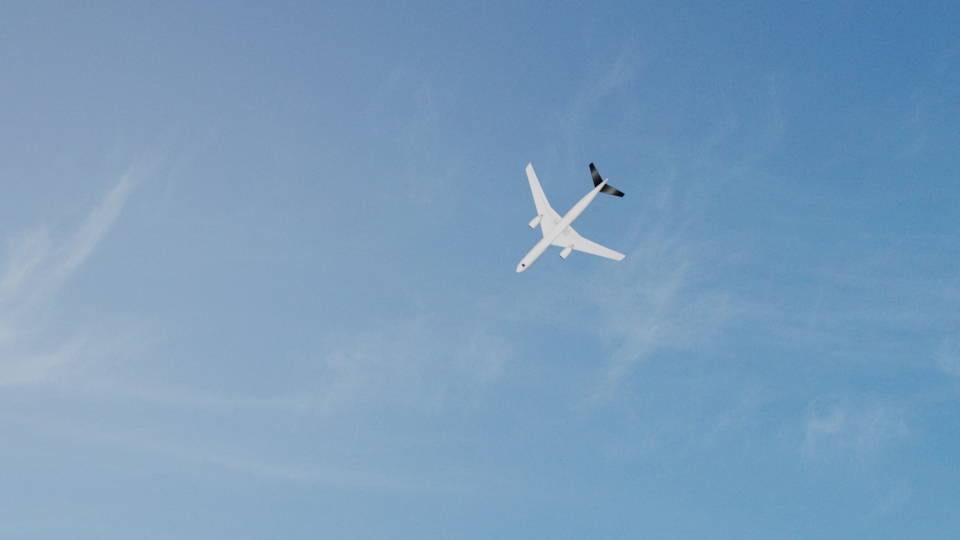plane: (515, 162, 624, 274)
